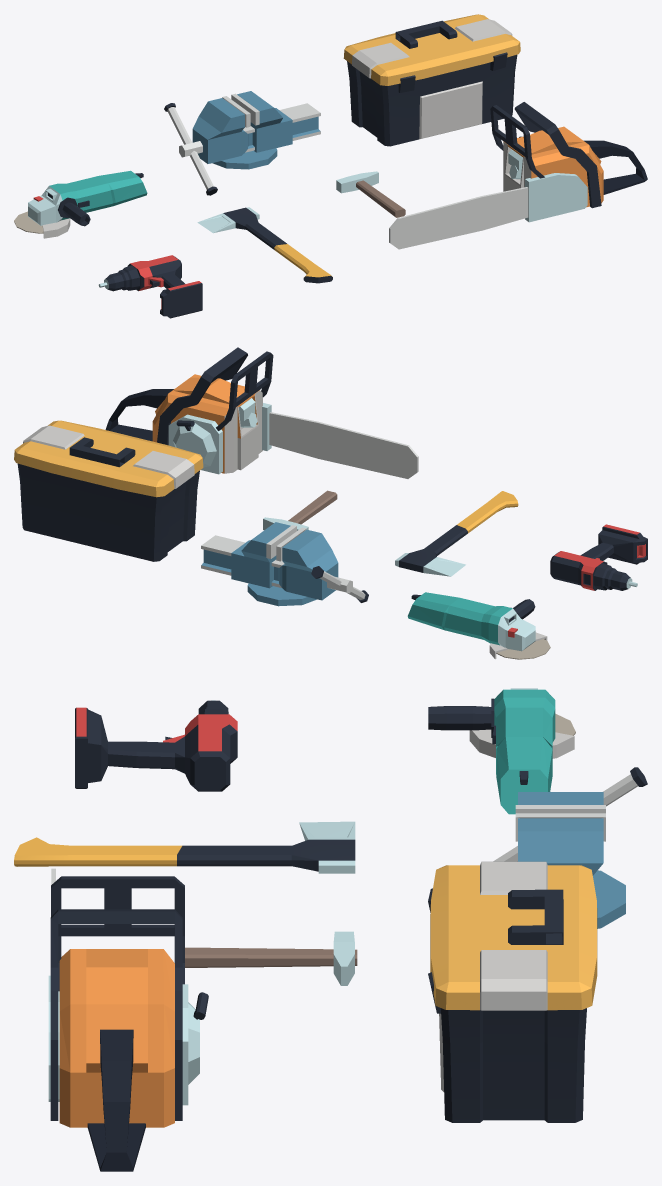
The model's file is instruments.FBX.
The picture shows the model from 3 angles, top to bottom: view 1: azimuth 30°, elevation 25°; view 2: azimuth 150°, elevation 25°; view 3: azimuth 270°, elevation 25°; orthographic projection. The views are drawn at different scales.
Visible parts, largest first — view 1: Box002, Box008, Box005, Box006, Box007, Box001, Box004; view 2: Box002, Box008, Box005, Box006, Box007, Box001, Box004; view 3: Box002, Box008, Box006, Box001, Box005, Box007, Box004.
Part boxes in pixels (bbox=[...]): Box002: bbox=[343, 14, 520, 146]; Box008: bbox=[389, 102, 647, 249]; Box005: bbox=[164, 91, 320, 195]; Box006: bbox=[14, 170, 147, 238]; Box007: bbox=[98, 255, 202, 318]; Box001: bbox=[197, 207, 332, 283]; Box004: bbox=[336, 171, 405, 217]; Box002: bbox=[14, 420, 203, 561]; Box008: bbox=[105, 347, 418, 478]; Box005: bbox=[201, 522, 368, 606]; Box006: bbox=[407, 592, 550, 659]; Box007: bbox=[550, 524, 647, 590]; Box001: bbox=[395, 491, 518, 576]; Box004: bbox=[263, 490, 337, 530]; Box002: bbox=[428, 861, 597, 1122]; Box008: bbox=[48, 868, 208, 1171]; Box006: bbox=[428, 688, 575, 814]; Box001: bbox=[14, 821, 355, 873]; Box005: bbox=[493, 767, 647, 928]; Box007: bbox=[75, 700, 237, 791]; Box004: bbox=[185, 931, 357, 985].
Size of the model in its own units: 131 by 74.5 by 26.24.
1 material, 1 textured.
